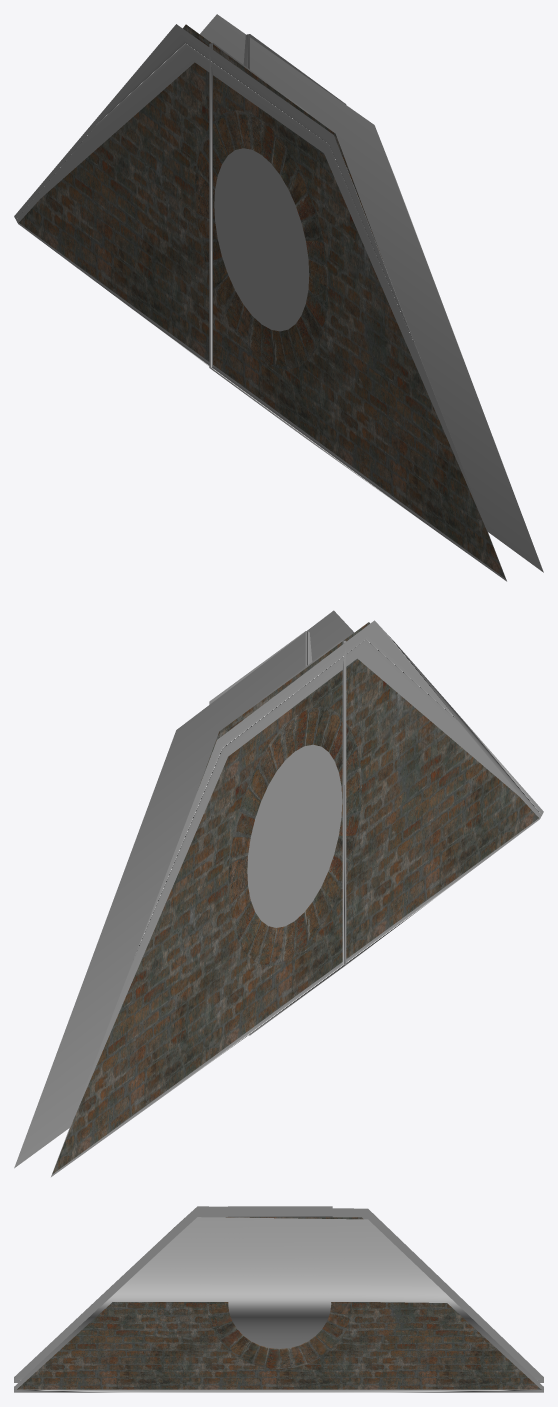
Rendered from SM_Window_Wall_4.gltf.
3 renders of one model, top to bottom at view 1: azimuth 30°, elevation 25°; view 2: azimuth 150°, elevation 25°; view 3: azimuth 270°, elevation 25°, orthographic. The views are drawn at different scales.
Parts seen in each view (by area): view 1: SM_Window_Wall_4_LOD0, SM_Window_Wall_4_ConvexHulls; view 2: SM_Window_Wall_4_LOD0, SM_Window_Wall_4_ConvexHulls; view 3: SM_Window_Wall_4_ConvexHulls, SM_Window_Wall_4_LOD0.
Boxes of the visible parts, x1=… form: SM_Window_Wall_4_LOD0: x1=19, y1=24, x2=505, y2=578; SM_Window_Wall_4_ConvexHulls: x1=14, y1=14, x2=543, y2=581; SM_Window_Wall_4_LOD0: x1=52, y1=622, x2=538, y2=1174; SM_Window_Wall_4_ConvexHulls: x1=14, y1=610, x2=543, y2=1176; SM_Window_Wall_4_ConvexHulls: x1=14, y1=1206, x2=543, y2=1392; SM_Window_Wall_4_LOD0: x1=17, y1=1217, x2=540, y2=1389.
Size of what is drawn, in the model's own units: 0.4254 by 3.23 by 8.85.
